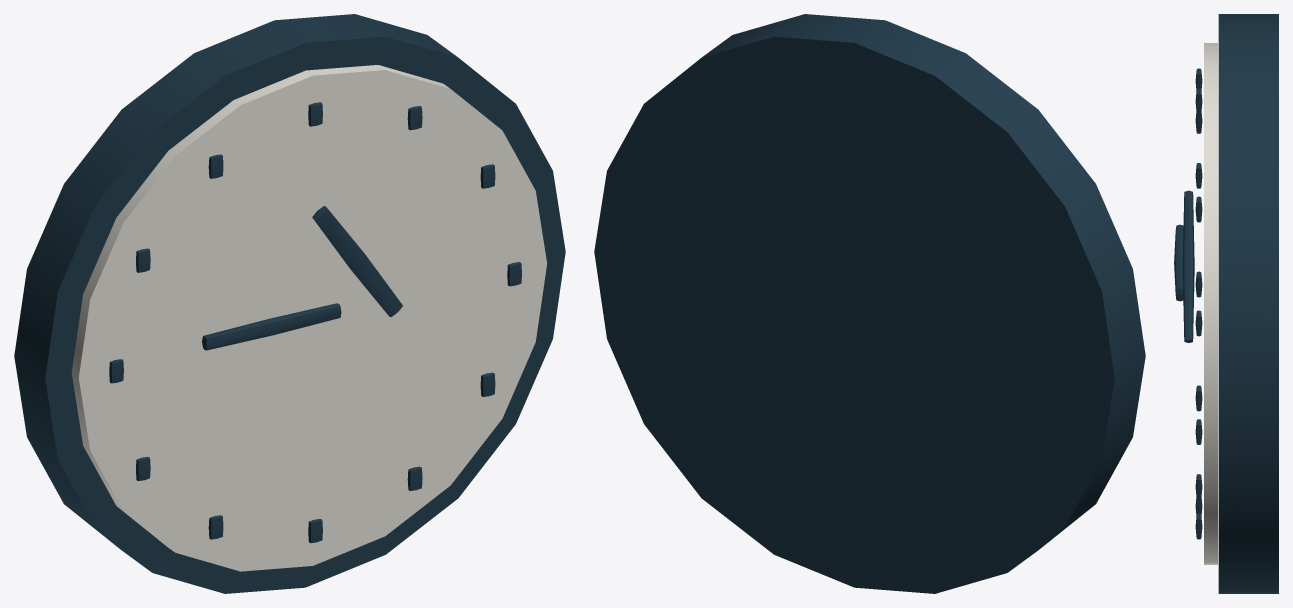
The model's file is wall-clock.glb.
3 renders of one model, left to right at view 1: azimuth 30°, elevation 25°; view 2: azimuth 150°, elevation 25°; view 3: azimuth 270°, elevation 25°, orthographic. The views are drawn at different scales.
Visible parts, largest first — view 1: wall-clock; view 2: wall-clock; view 3: wall-clock.
Part boxes in pixels (<box>): wall-clock: <box>14,14,565,593</box>; wall-clock: <box>594,14,1145,593</box>; wall-clock: <box>1174,14,1278,593</box>.
Size of the model in its own units: 0.34 by 0.34 by 0.061.
Materials: 16 (16 with a texture image).
